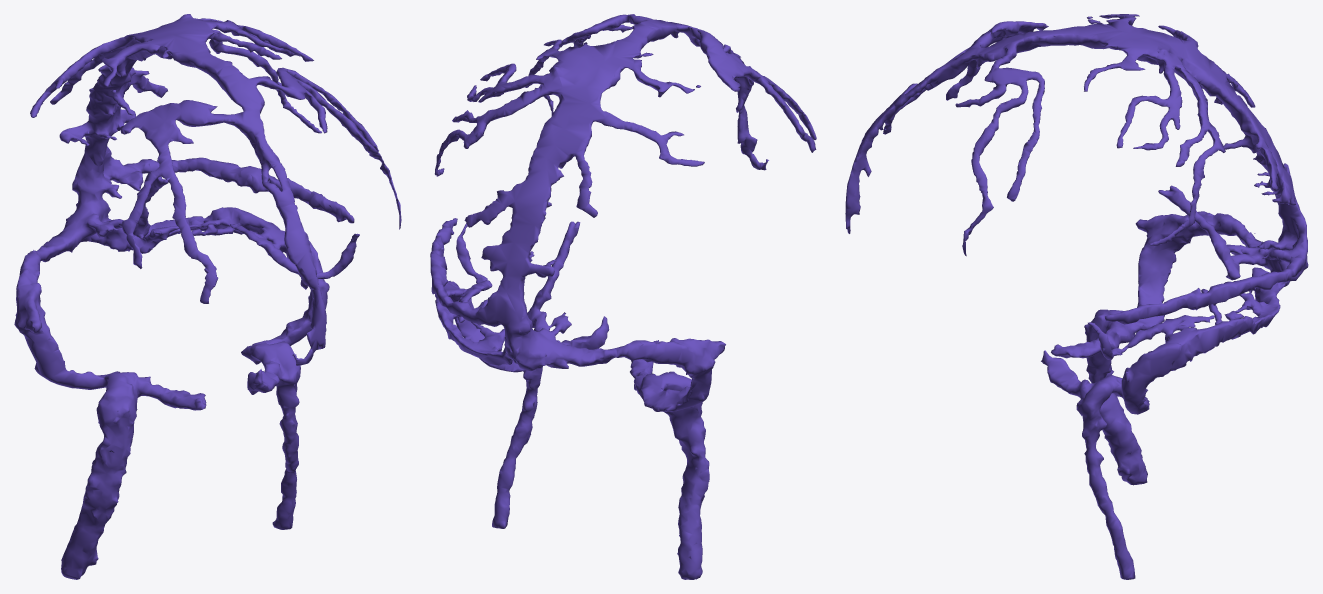
3 views of the same model, side by side, from view 1: azimuth 30°, elevation 25°; view 2: azimuth 150°, elevation 25°; view 3: azimuth 270°, elevation 25° (orthographic). The views are drawn at different scales.
Parts seen in each view (by area): view 1: Polygonal_Model_2_Triangles_0; view 2: Polygonal_Model_2_Triangles_0; view 3: Polygonal_Model_2_Triangles_0.
Boxes of the visible parts, x1=… form: Polygonal_Model_2_Triangles_0: x1=14, y1=14, x2=401, y2=579; Polygonal_Model_2_Triangles_0: x1=430, y1=14, x2=816, y2=579; Polygonal_Model_2_Triangles_0: x1=845, y1=14, x2=1308, y2=579.
Size of the model in its own units: 4.64 by 7.56 by 6.41.
